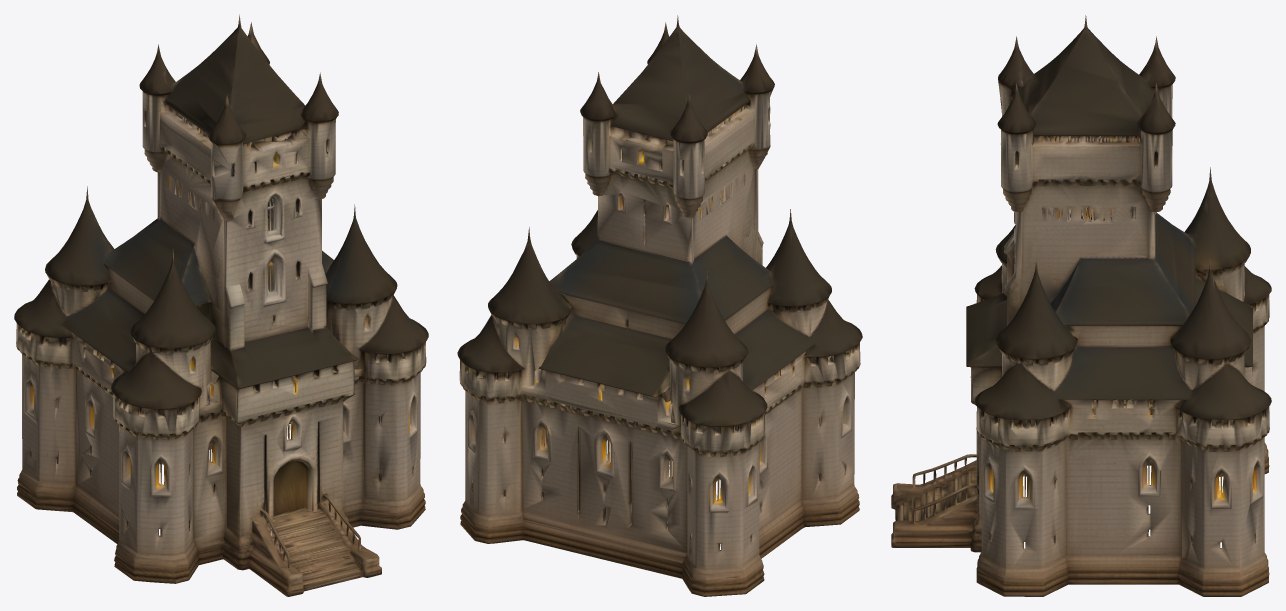
File: castelo.glb
The picture shows the model from 3 angles, left to right: view 1: azimuth 30°, elevation 25°; view 2: azimuth 150°, elevation 25°; view 3: azimuth 270°, elevation 25°; orthographic projection. The views are drawn at different scales.
Parts seen in each view (by area): view 1: material; view 2: material; view 3: material.
Boxes of the visible parts, x1,y1,x2,y2 form: material: (14,14,428,596); material: (457,15,862,596); material: (891,15,1271,596).
Bounding box in the file's own units: 0.5799 × 0.9207 × 0.6218.
Materials: 1 (1 with a texture image).
